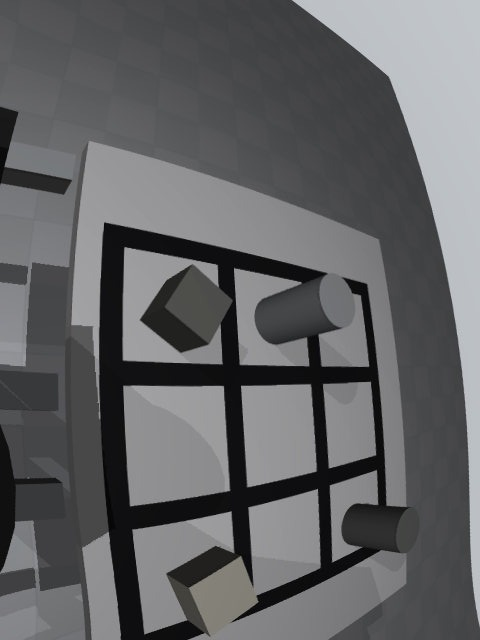can: (254, 273, 355, 344)
cube: (141, 264, 233, 352)
cylinder: (341, 503, 420, 554)
foam: (166, 546, 258, 637)
